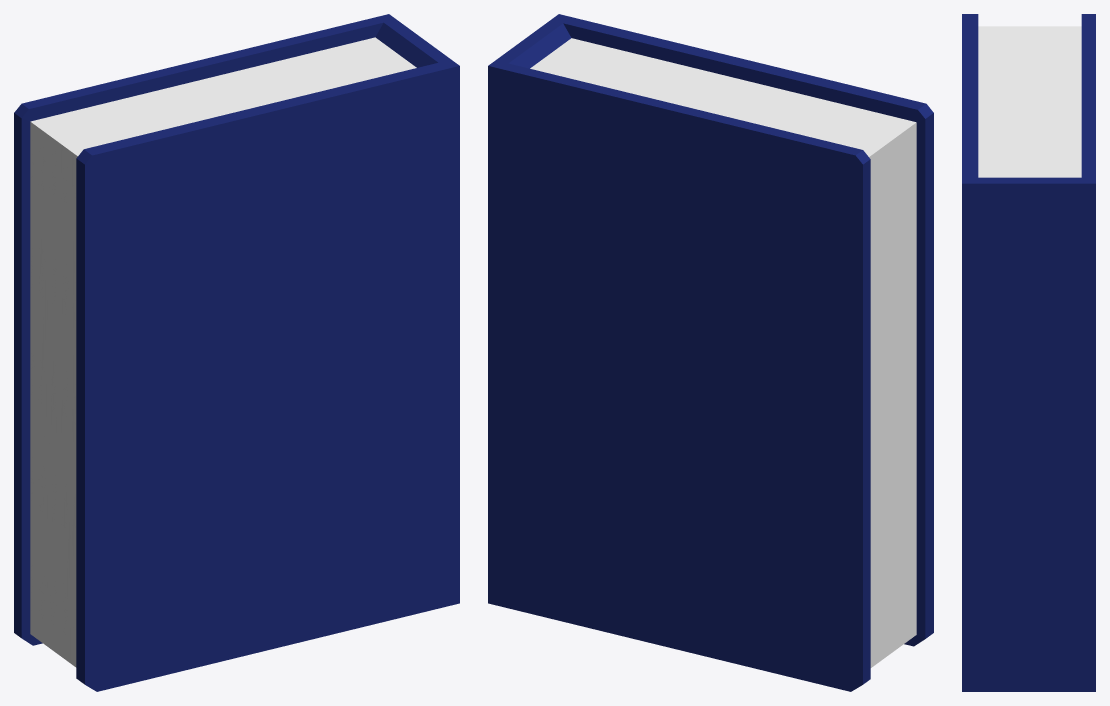
File: book04.obj
3 views of the same model, side by side, from view 1: azimuth 30°, elevation 25°; view 2: azimuth 150°, elevation 25°; view 3: azimuth 270°, elevation 25° (orthographic). The views are drawn at different scales.
Parts seen in each view (by area): view 1: Cube.001_Cube.004; view 2: Cube.001_Cube.004; view 3: Cube.001_Cube.004.
Part boxes in pixels (x1,y1,x2,y2): Cube.001_Cube.004: (14, 14, 459, 691); Cube.001_Cube.004: (488, 14, 933, 691); Cube.001_Cube.004: (962, 14, 1095, 691).
Size of the model in its own units: 0.1678 by 0.2299 by 0.0549.
